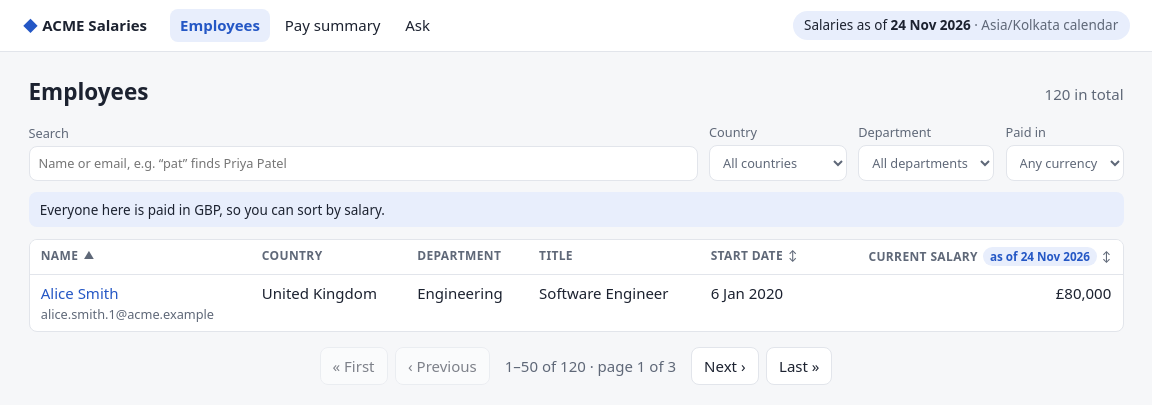
Test: pagination › asks the server for the next page of 50
expect the text "1–50 of 120 · page 1 of 3" is shown: met, box 497,355 -> 684,378
Click the button "Next ›" at (725, 366), box 691,347 -> 759,385
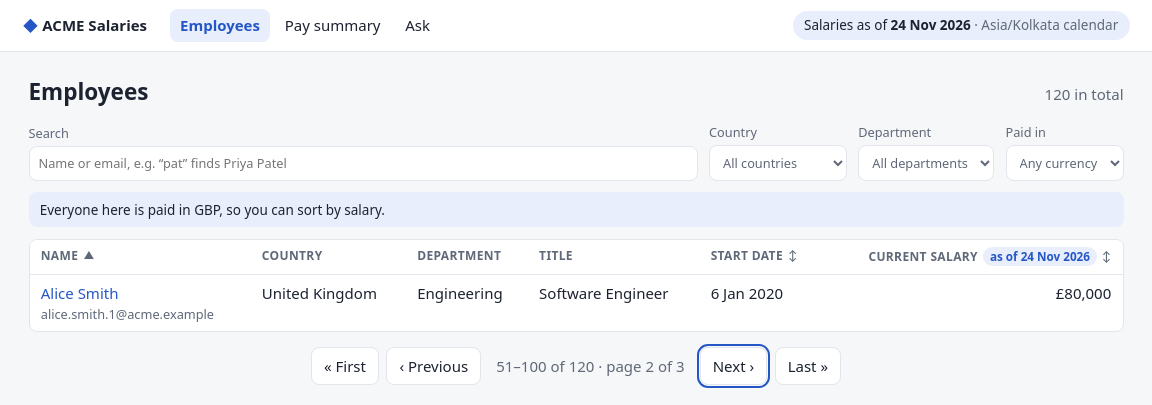
expect the text "51–100 of 120 · page 2 of 3" is shown: met, box 489,355 -> 692,378
